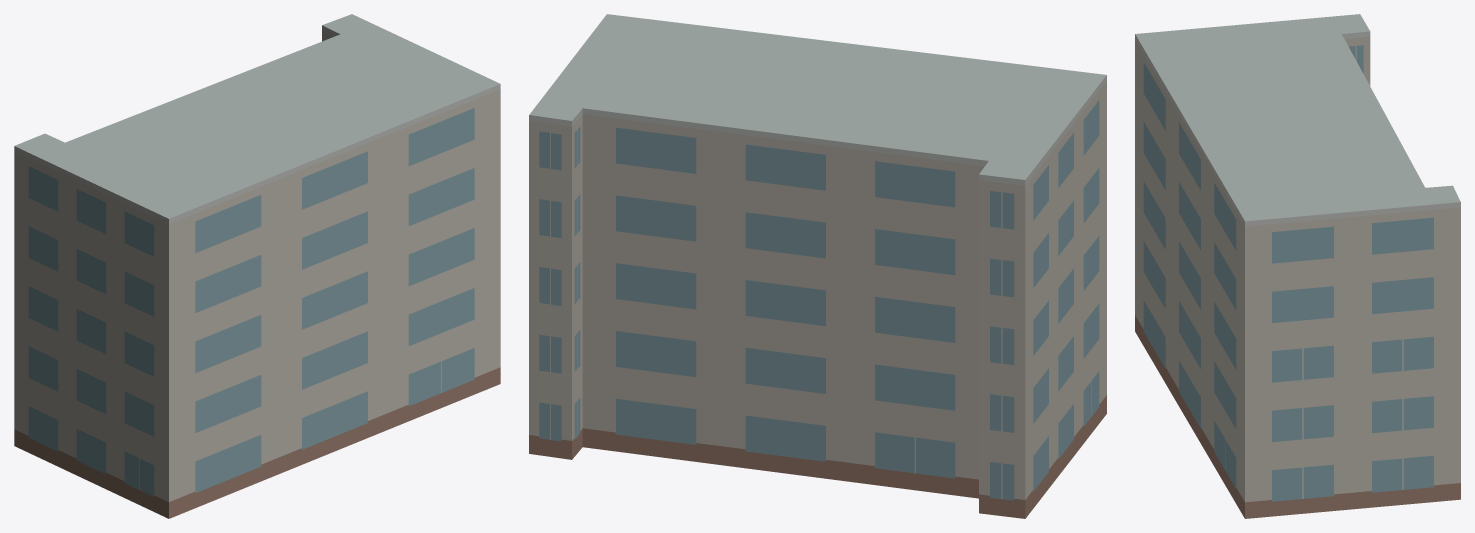
Rendered from survey-upis-32697650.glb.
3 renders of one model, left to right at view 1: azimuth 30°, elevation 25°; view 2: azimuth 150°, elevation 25°; view 3: azimuth 270°, elevation 25°, orthographic. The views are drawn at different scales.
Parts seen in each view (by area): view 1: survey-upis-32697650.tmp; view 2: survey-upis-32697650.tmp; view 3: survey-upis-32697650.tmp.
Boxes of the visible parts, x1,y1,x2,y2 form: survey-upis-32697650.tmp: (14, 14, 500, 518); survey-upis-32697650.tmp: (529, 14, 1106, 518); survey-upis-32697650.tmp: (1135, 14, 1460, 518).
Bounding box in the file's own units: 21.23 × 14.2 × 14.1.
